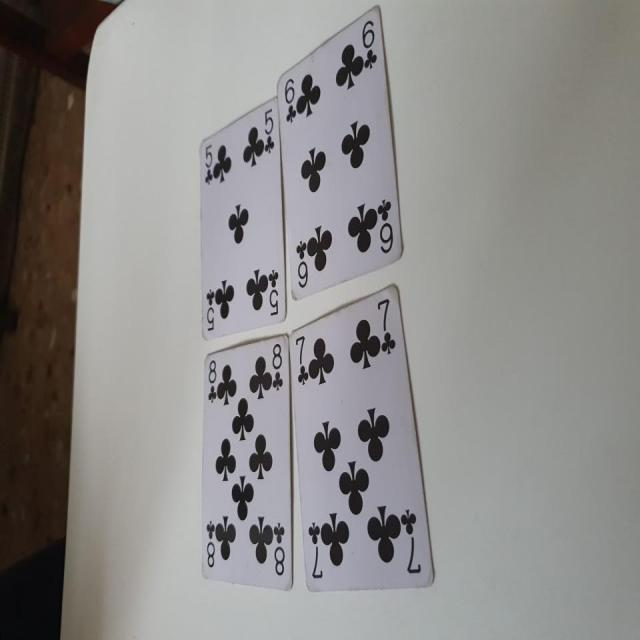5 of clubs: (198, 94, 288, 337)
6 of clubs: (278, 1, 403, 307)
7 of clubs: (289, 282, 436, 590)
8 of clubs: (198, 336, 292, 588)
